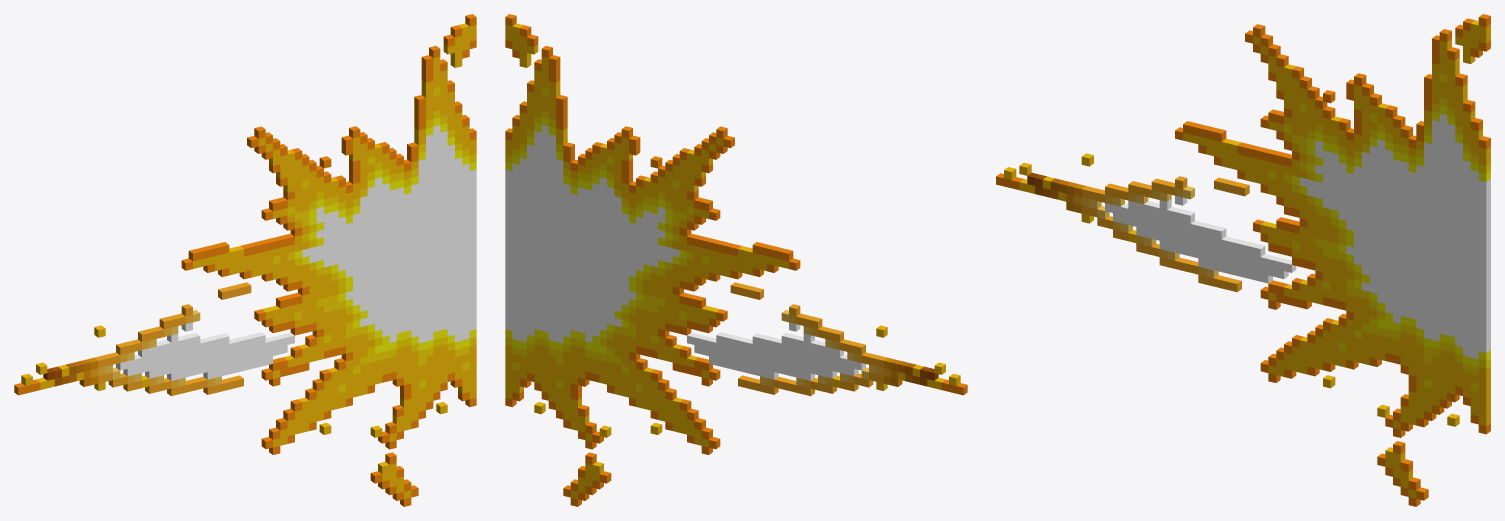
The model's file is Fight_749_2_30_fx.obj.
The picture shows the model from 3 angles, left to right: view 1: azimuth 30°, elevation 25°; view 2: azimuth 150°, elevation 25°; view 3: azimuth 330°, elevation 25°; orthographic projection. The views are drawn at different scales.
Bounding box in the file's own units: 6.3 × 6.2 × 0.1.
